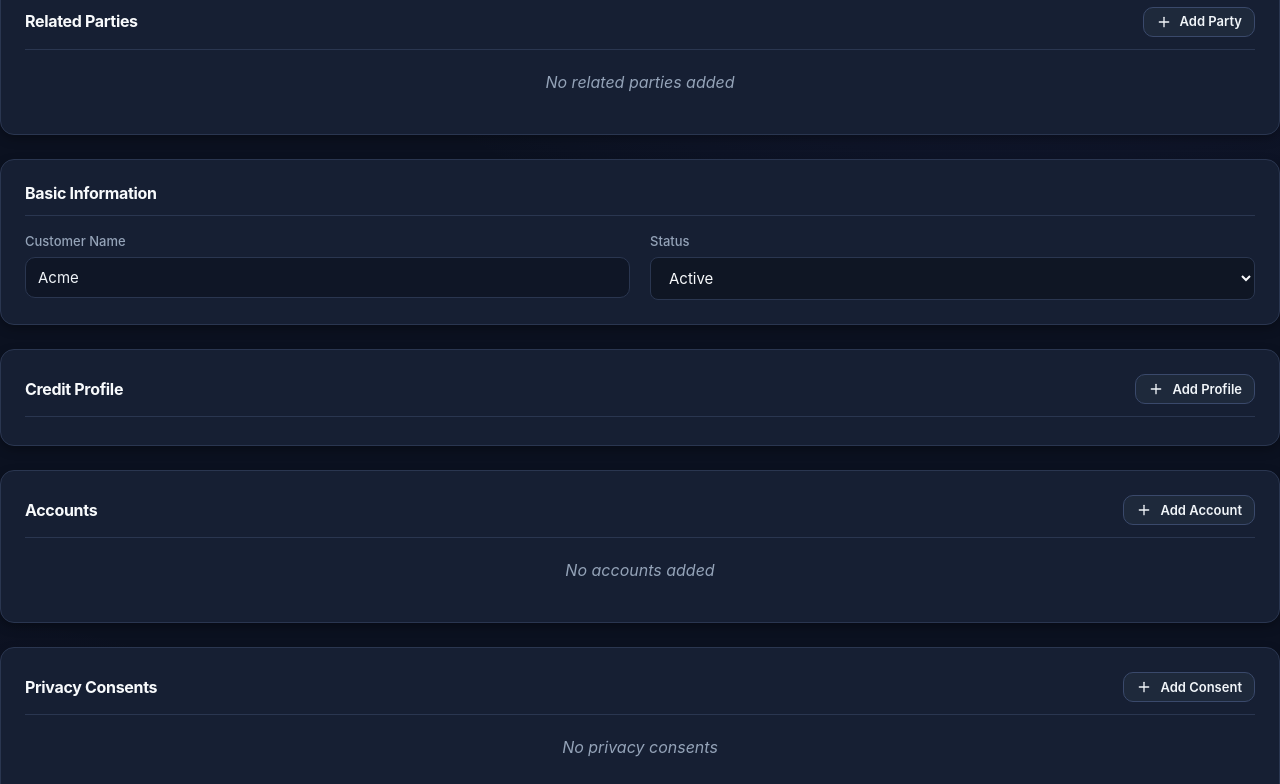
Test case: CustomerEditForm › adds, edits and removes accounts
The width and height of the screenshot is (1280, 784).
(page scrolled)
Expected: the text "No accounts added" is shown, [565,560,715,580]
Click the button "Add Account".
click(1189, 510)  # box [1123,495,1255,525]
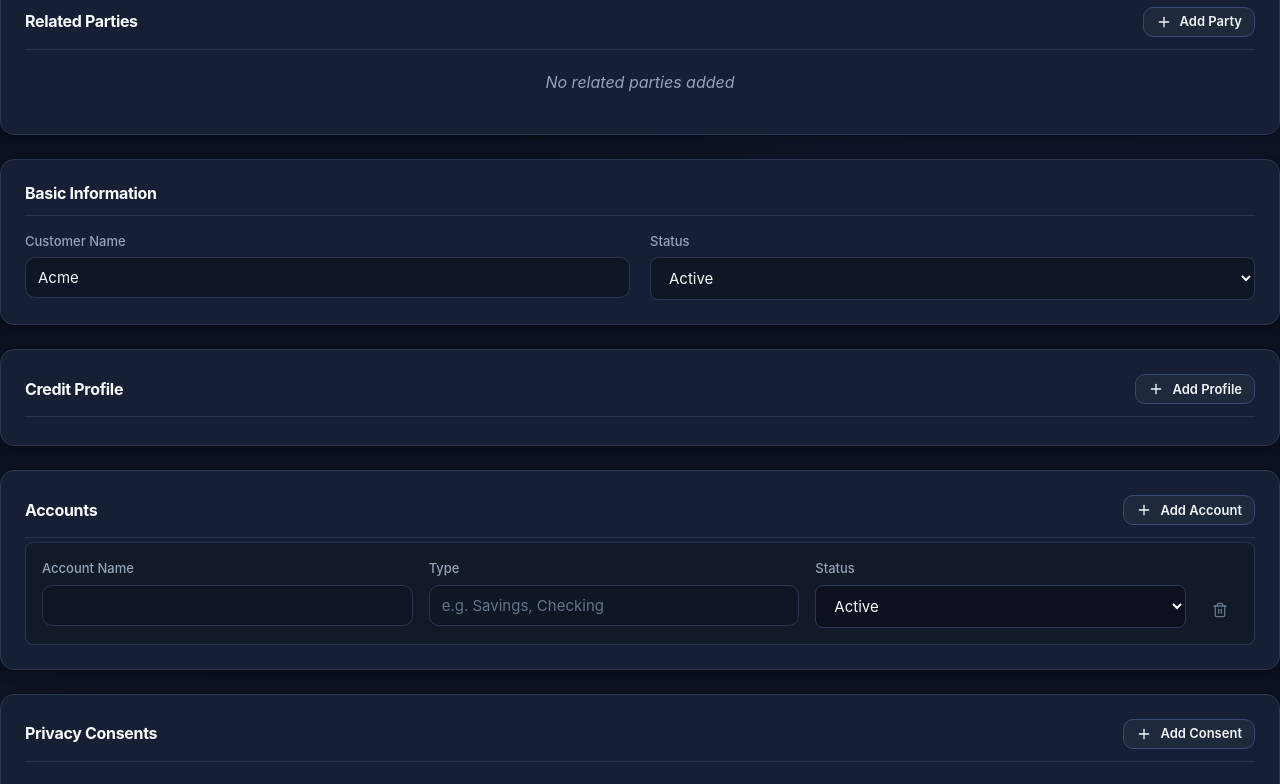
Type "Main" into the field labelled "Account Name".
click(227, 605); type("Main")  # box [42,585,413,626]
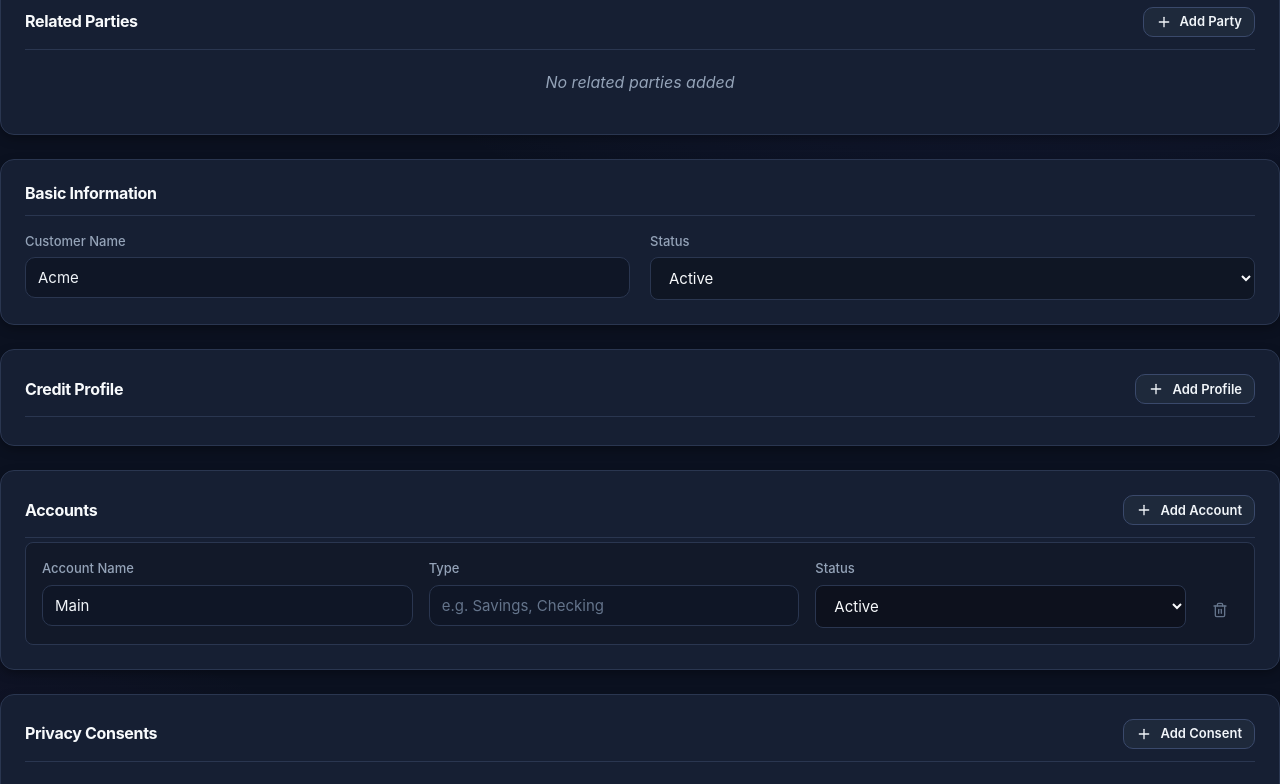
Type "Savings" into the field labelled "Type".
click(614, 605); type("Savings")  # box [429,585,799,626]
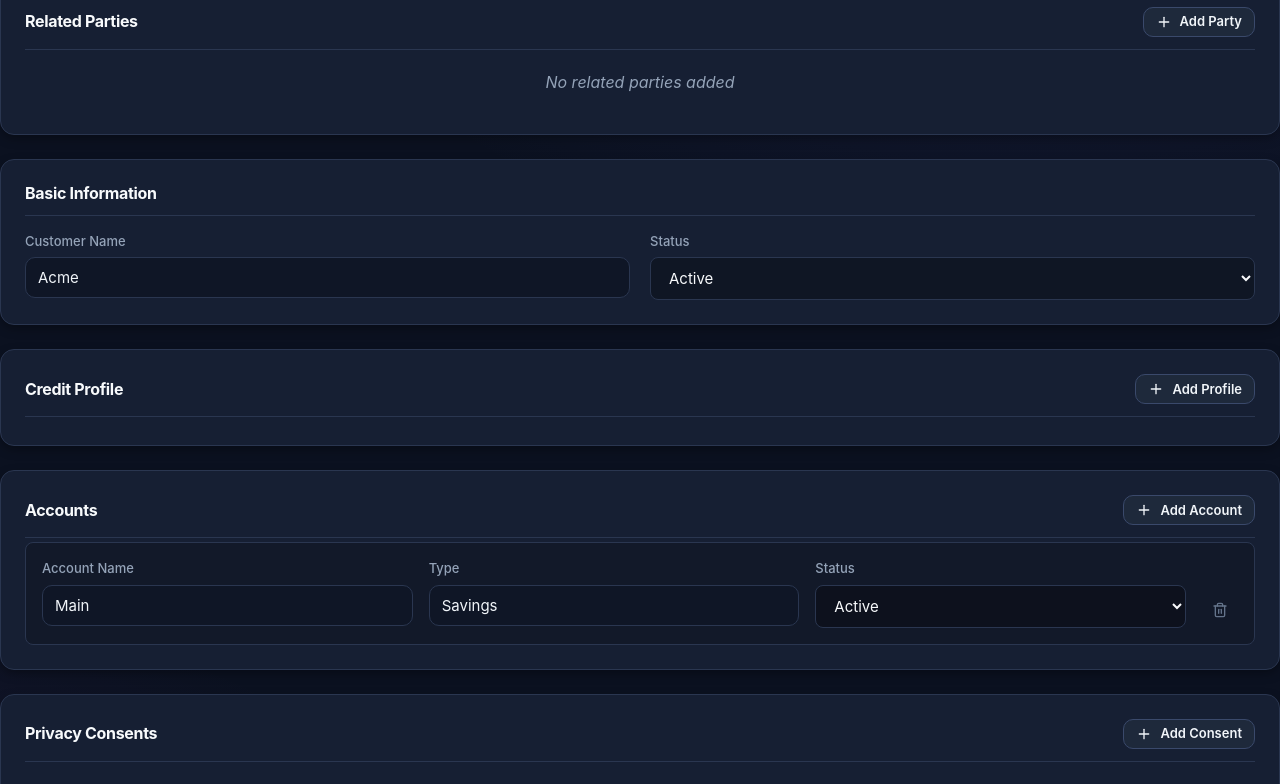
Select "Suspended" in the dropdown with id "acc-status-0" at (1001, 606), box [815,585,1186,628]
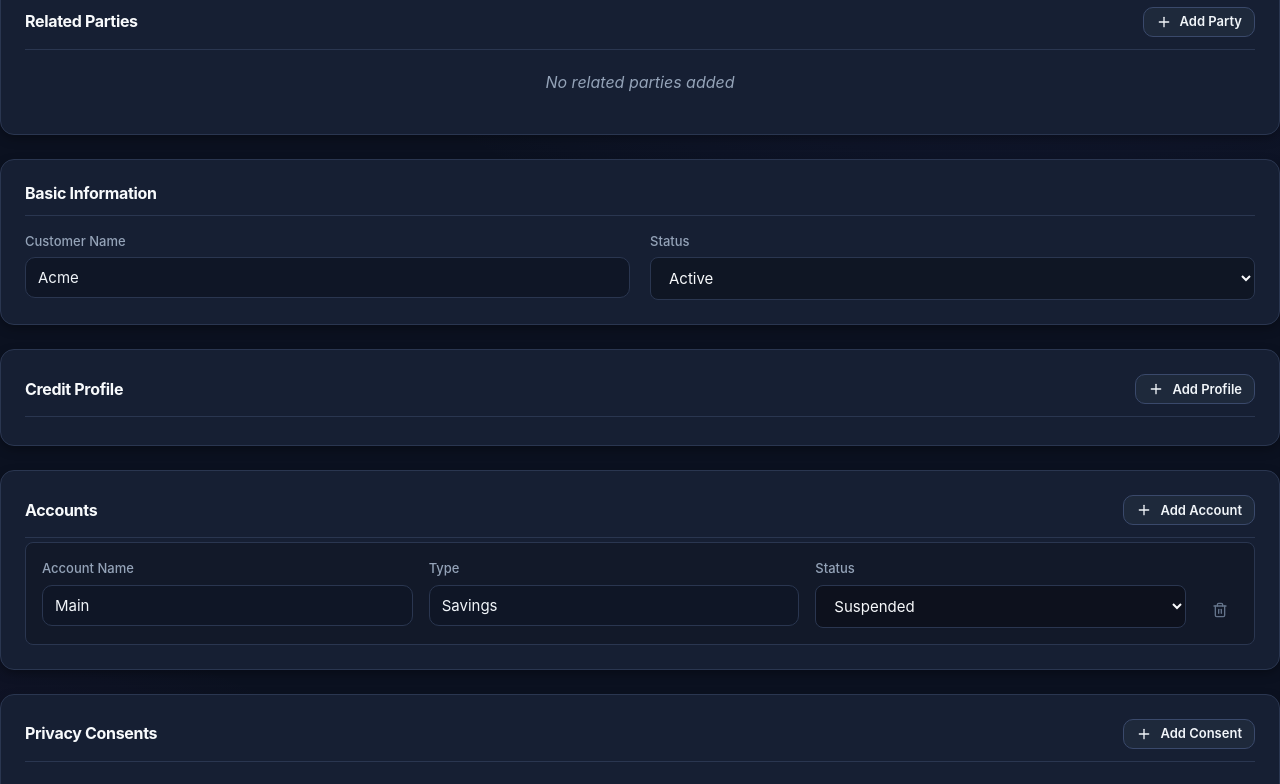
// Remove (the account row delete is the last danger icon button)
Click the 4th button.
click(1220, 610)  # box [1202,592,1238,628]
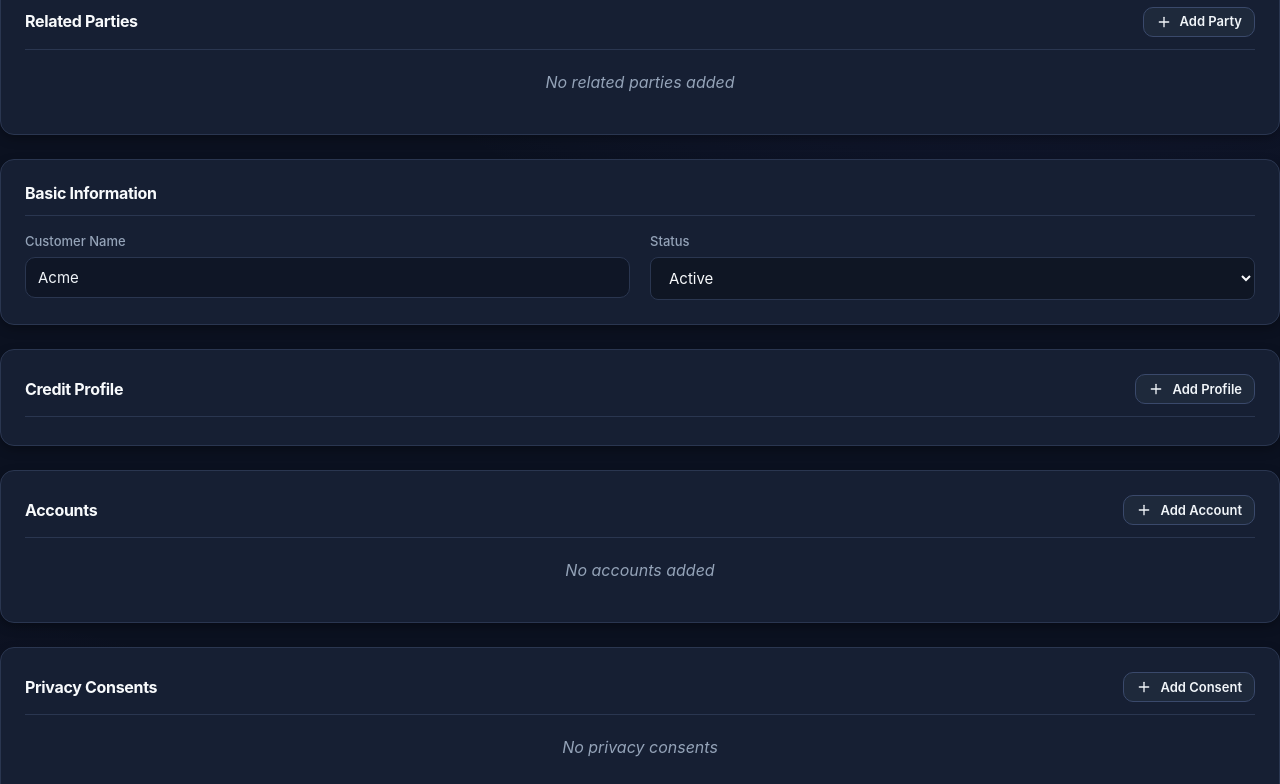
Expected: the text "No accounts added" is shown, [565,560,715,580]
